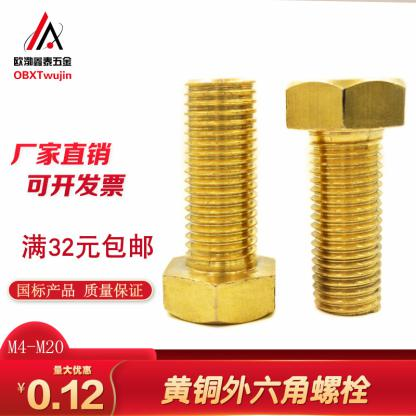FOD: (284, 76, 407, 319), (159, 74, 277, 324)
